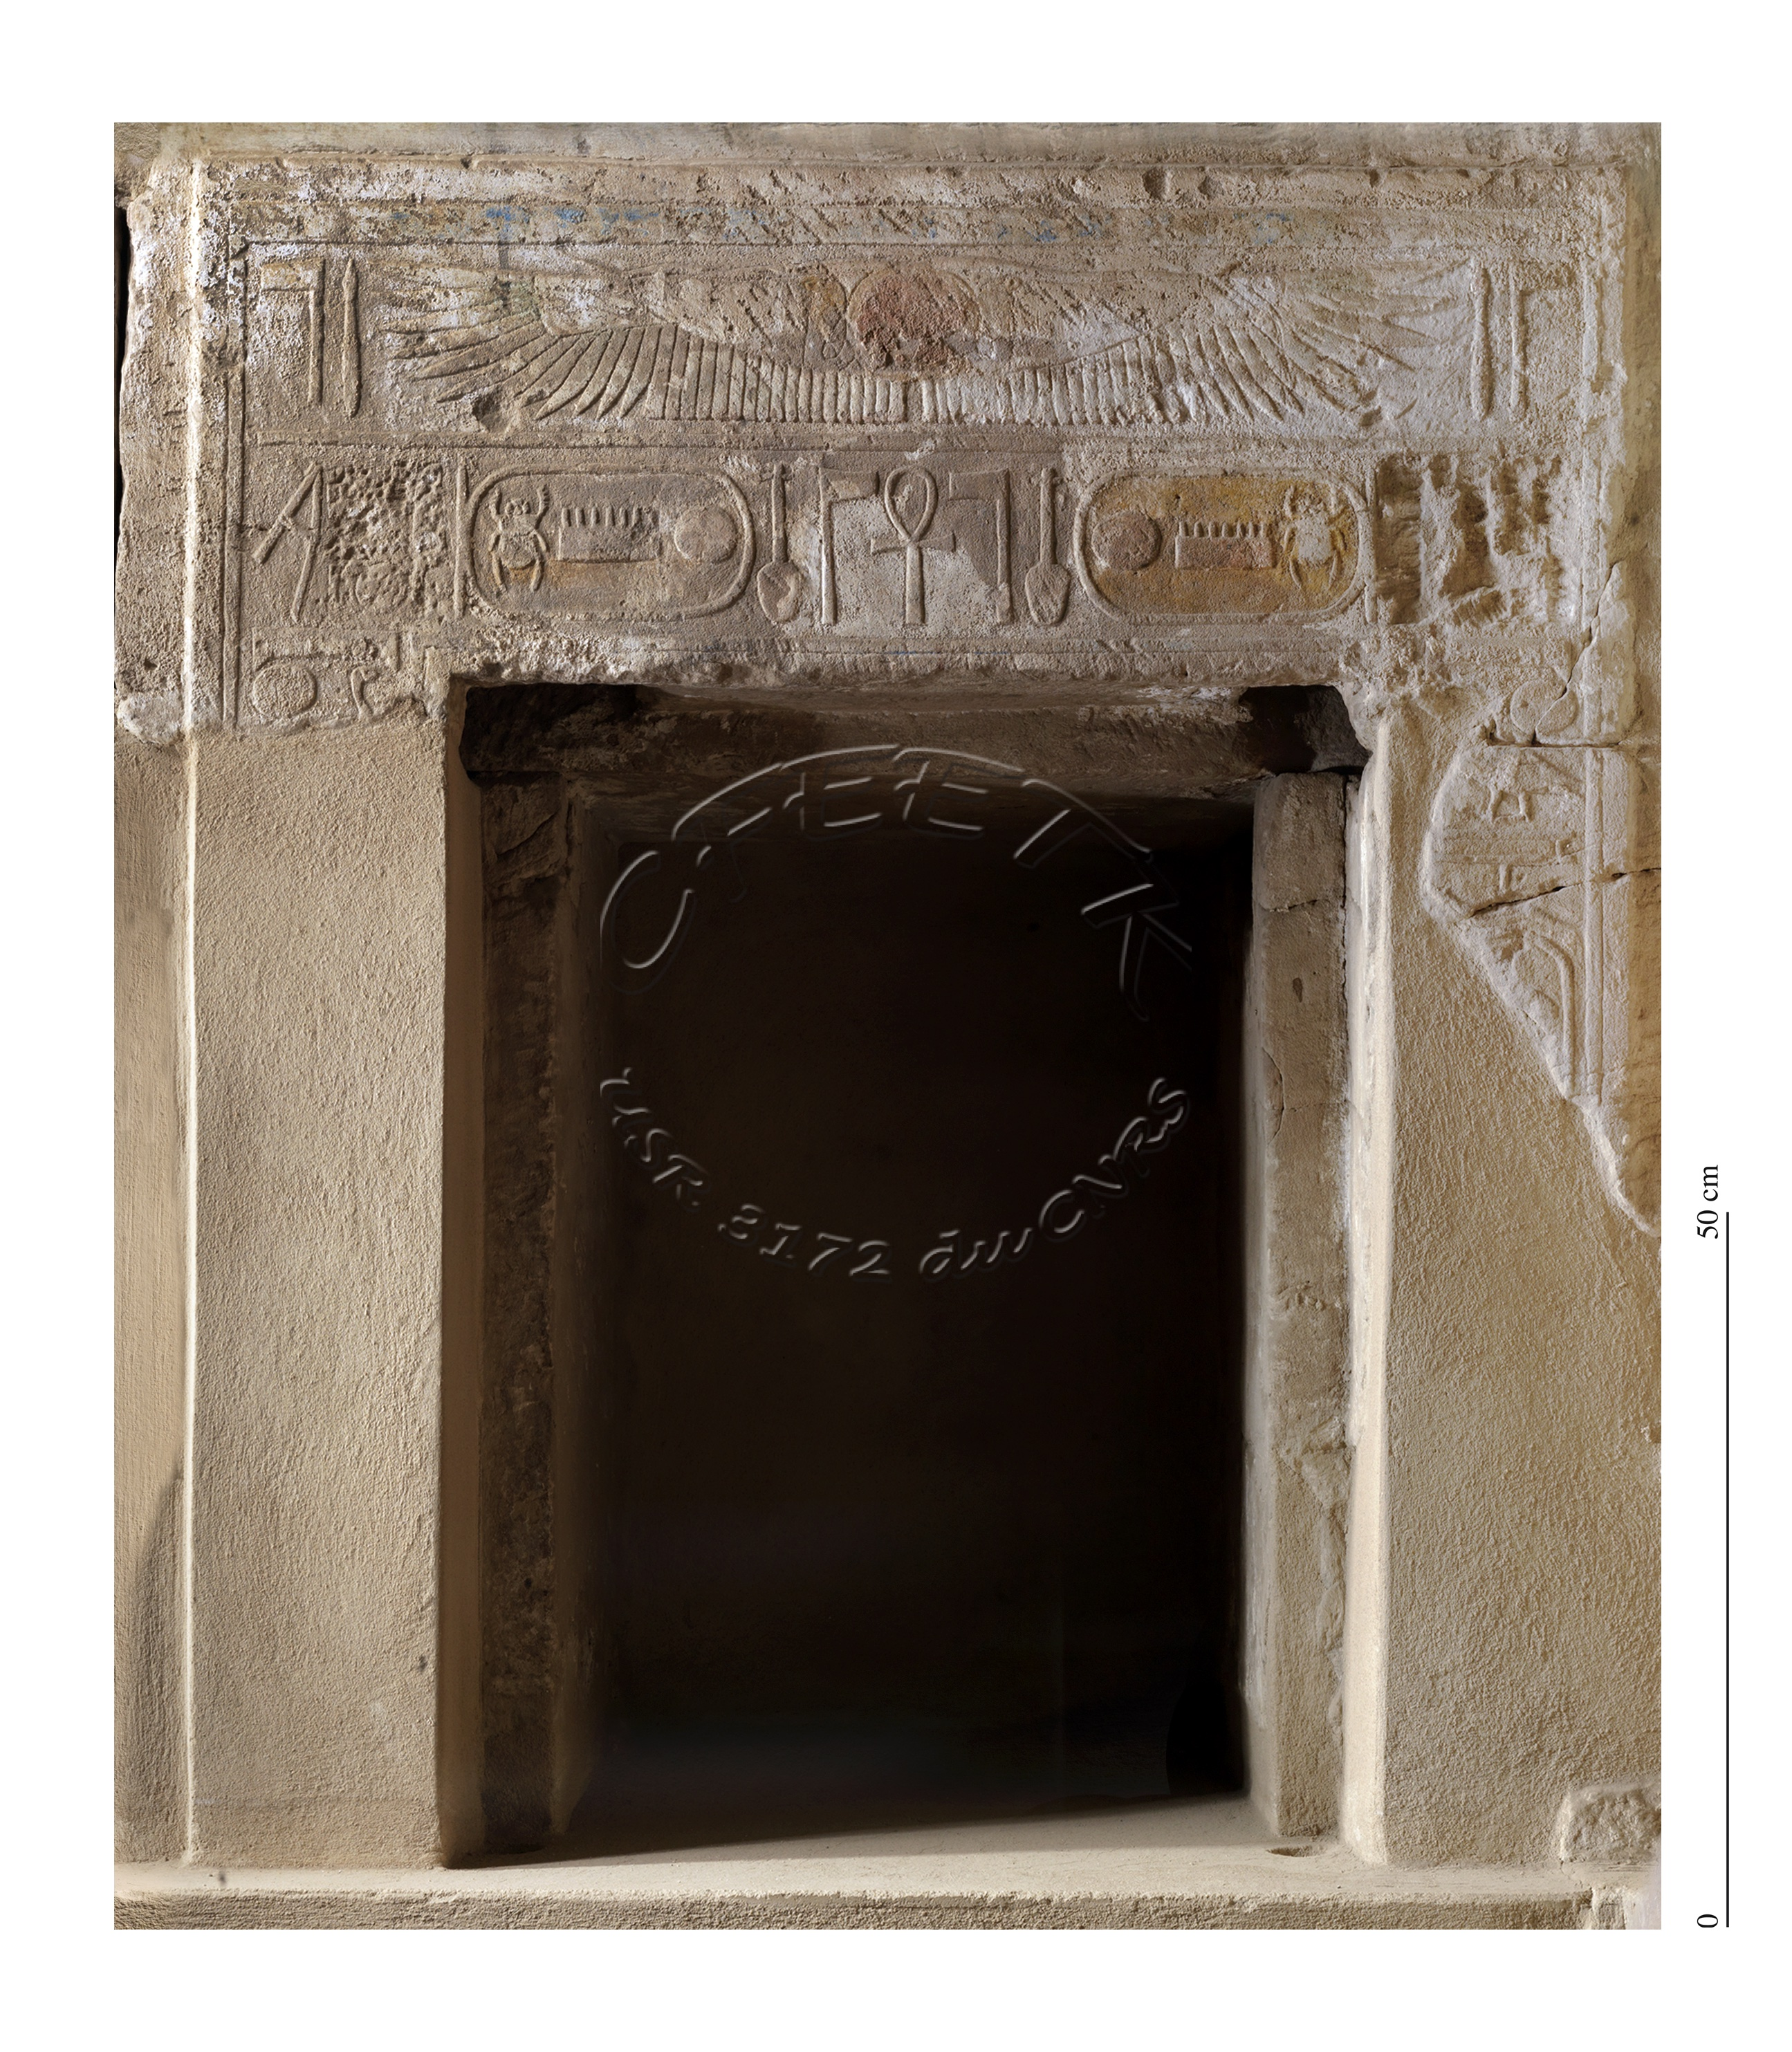F35: (745, 461, 824, 626), (1007, 459, 1078, 637)
